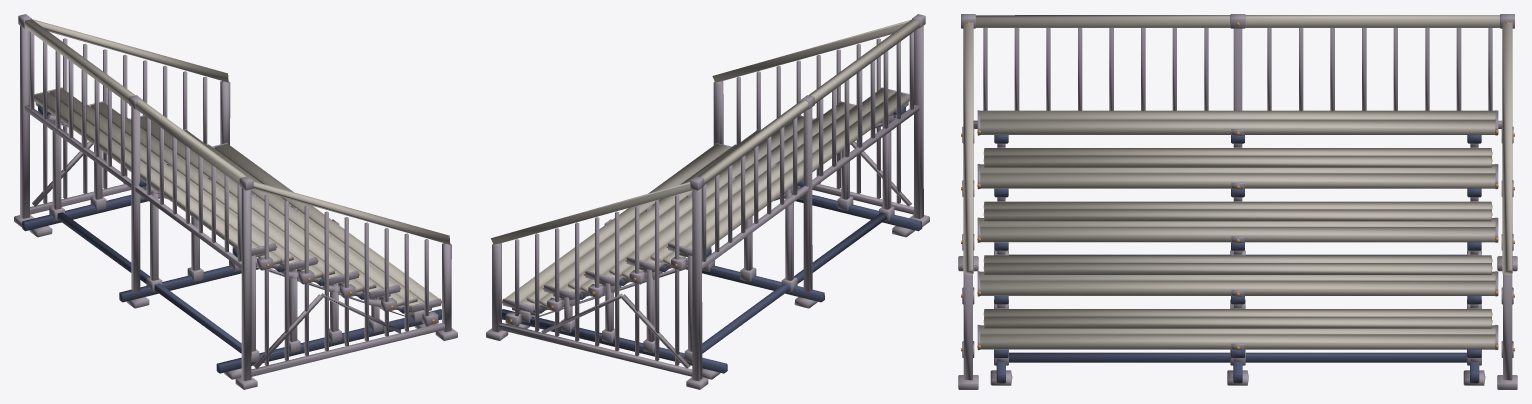
The picture shows the model from 3 angles, left to right: view 1: azimuth 30°, elevation 25°; view 2: azimuth 150°, elevation 25°; view 3: azimuth 270°, elevation 25°; orthographic projection. The views are drawn at different scales.
Bounding box in the file's own units: 3.55 × 3.11 × 6.27.
